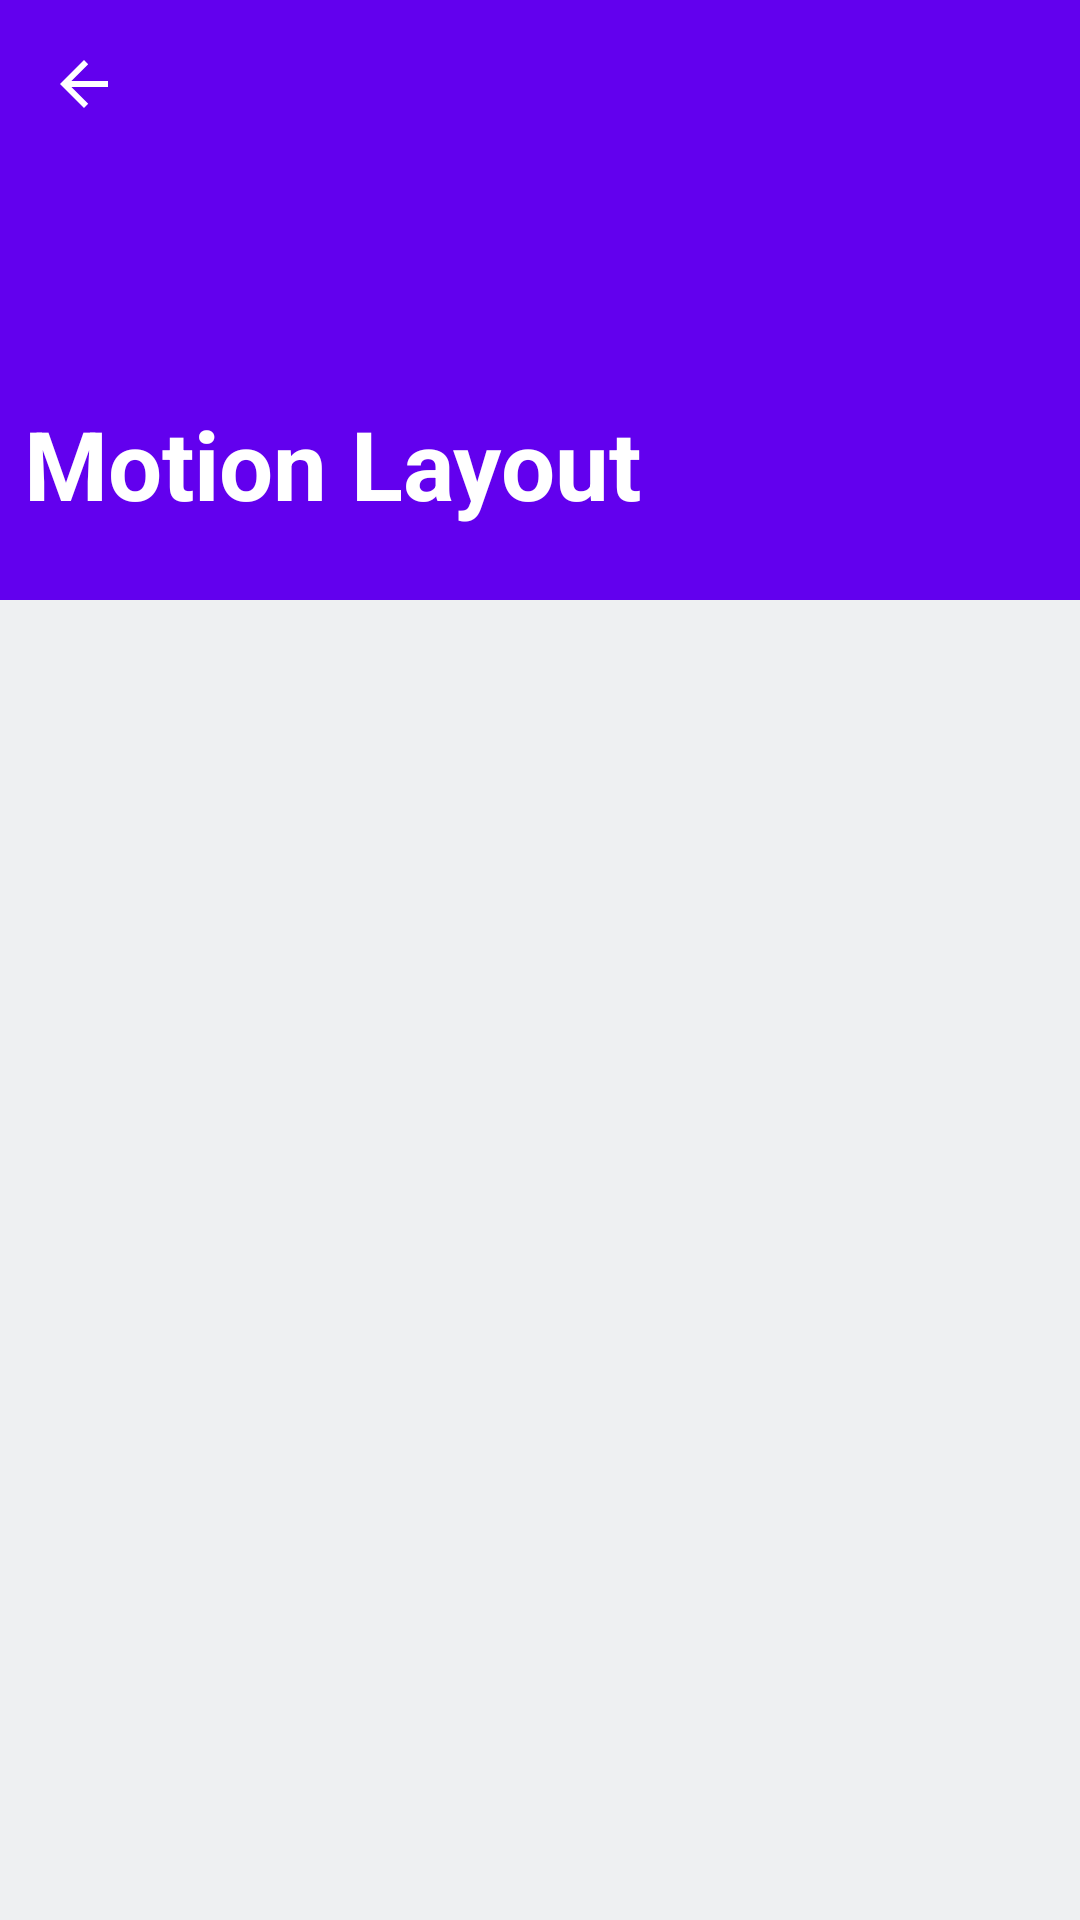

Named icons in this screenshot (1080x1920) and their bounding boxes, (x1, y1, x2, y2):
ab back: (60, 60, 108, 108)
